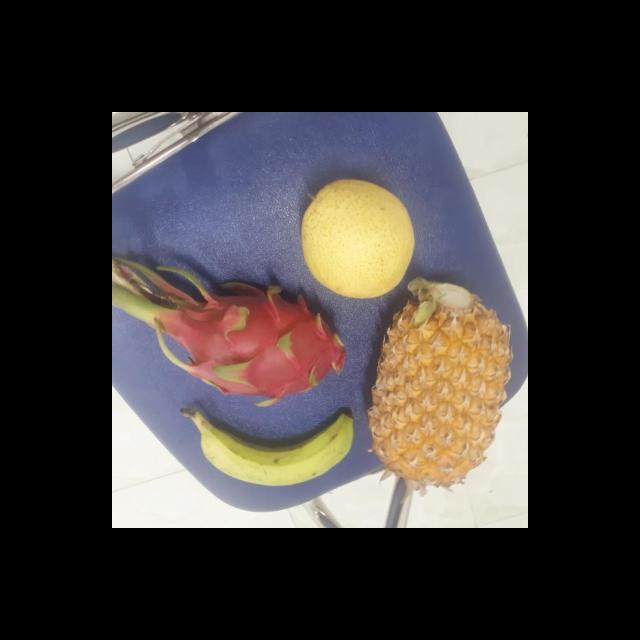banana: (192, 402, 364, 483)
pear: (300, 178, 420, 296)
pineapple: (370, 282, 510, 480)
pitaya: (164, 280, 357, 404)
